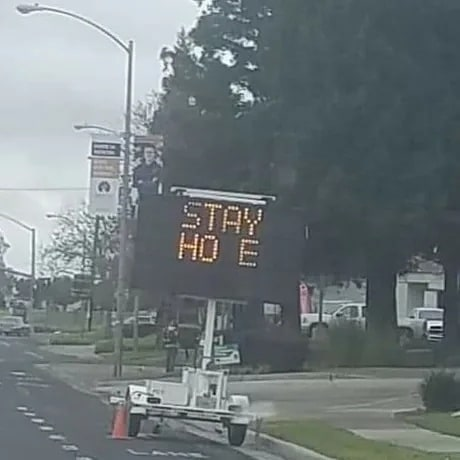light pole: (17, 5, 132, 383)
sign: (149, 198, 303, 308)
tree: (168, 12, 460, 366)
